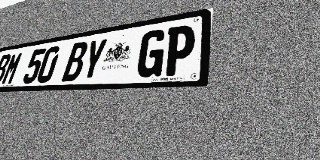0: (35, 45, 61, 83)
5: (22, 48, 47, 84)
B: (61, 41, 89, 82), (0, 53, 12, 86)
G: (135, 28, 168, 78)
M: (0, 52, 24, 85)
P: (162, 24, 196, 76)
Y: (79, 38, 108, 81)
